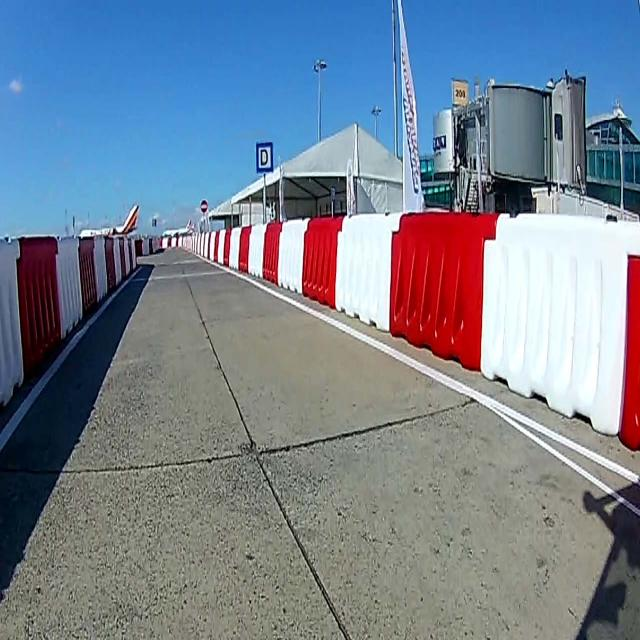durak: (255, 142, 273, 174)
girisyok: (200, 199, 208, 213)
